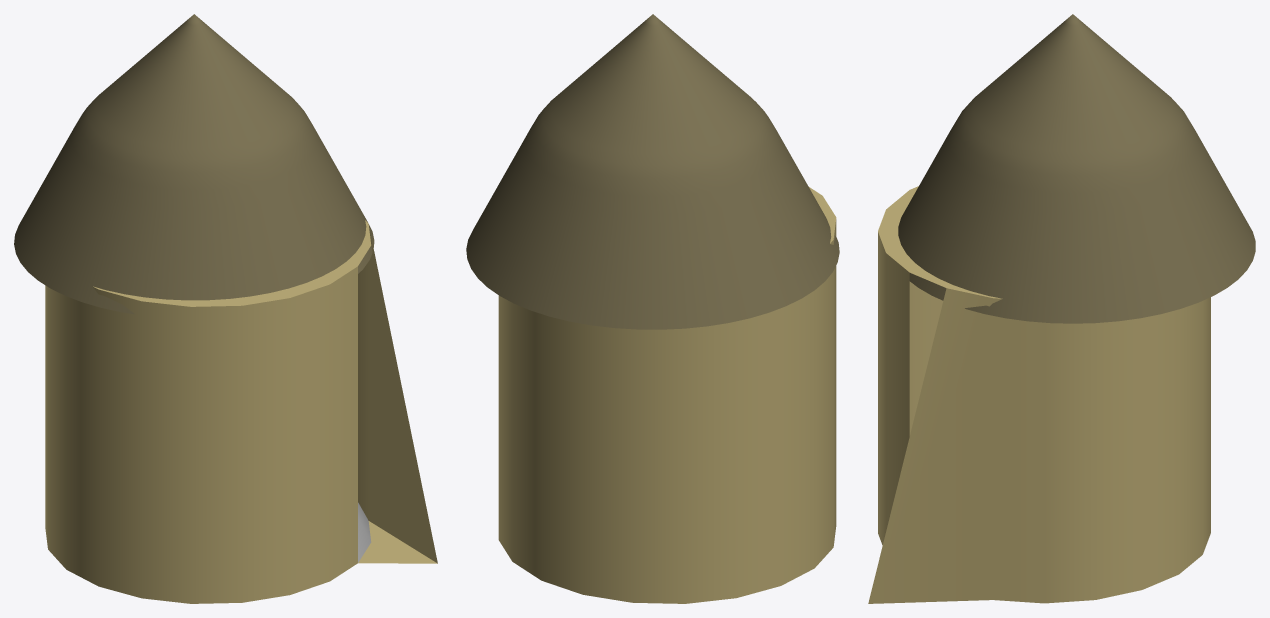
File: tets.fbx
The picture shows the model from 3 angles, left to right: view 1: azimuth 30°, elevation 25°; view 2: azimuth 150°, elevation 25°; view 3: azimuth 270°, elevation 25°; orthographic projection. The views are drawn at different scales.
Visible parts, largest first — view 1: pCone3; view 2: pCone3; view 3: pCone3.
Part boxes in pixels (bbox=[...]): pCone3: bbox=[14, 14, 437, 603]; pCone3: bbox=[466, 14, 839, 603]; pCone3: bbox=[868, 14, 1255, 603].
Size of the model in its own units: 2.2 by 3.44 by 2.33.
